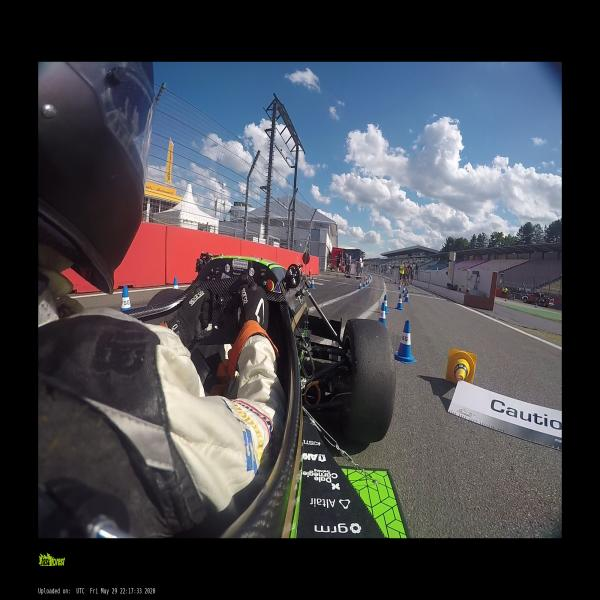blue_cone: (394, 320, 414, 363), (121, 286, 131, 310), (377, 302, 386, 326), (380, 294, 389, 316), (396, 294, 403, 310), (400, 284, 406, 293), (404, 290, 408, 303), (174, 278, 178, 290), (397, 282, 402, 290), (358, 281, 362, 289), (311, 278, 314, 288), (364, 280, 366, 286), (366, 278, 368, 284)
yellow_cone: (447, 348, 476, 391)
